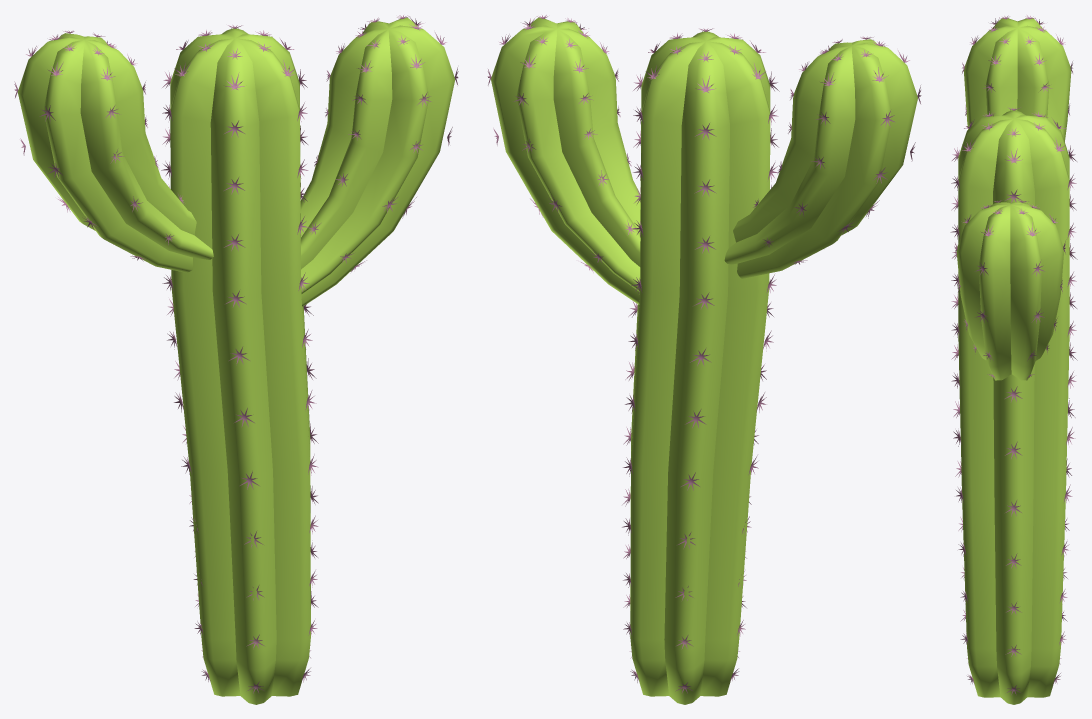
The model's file is SM_Cactus_B.fbx.
3 views of the same model, side by side, from view 1: azimuth 30°, elevation 25°; view 2: azimuth 150°, elevation 25°; view 3: azimuth 270°, elevation 25° (orthographic). The views are drawn at different scales.
Parts seen in each view (by area): view 1: SM_Cactus_B; view 2: SM_Cactus_B; view 3: SM_Cactus_B.
Part boxes in pixels (x1,y1,x2,y2): SM_Cactus_B: (14, 15, 458, 704); SM_Cactus_B: (487, 15, 921, 704); SM_Cactus_B: (950, 15, 1077, 704).
Bounding box in the file's own units: 144 × 228 × 44.68.
